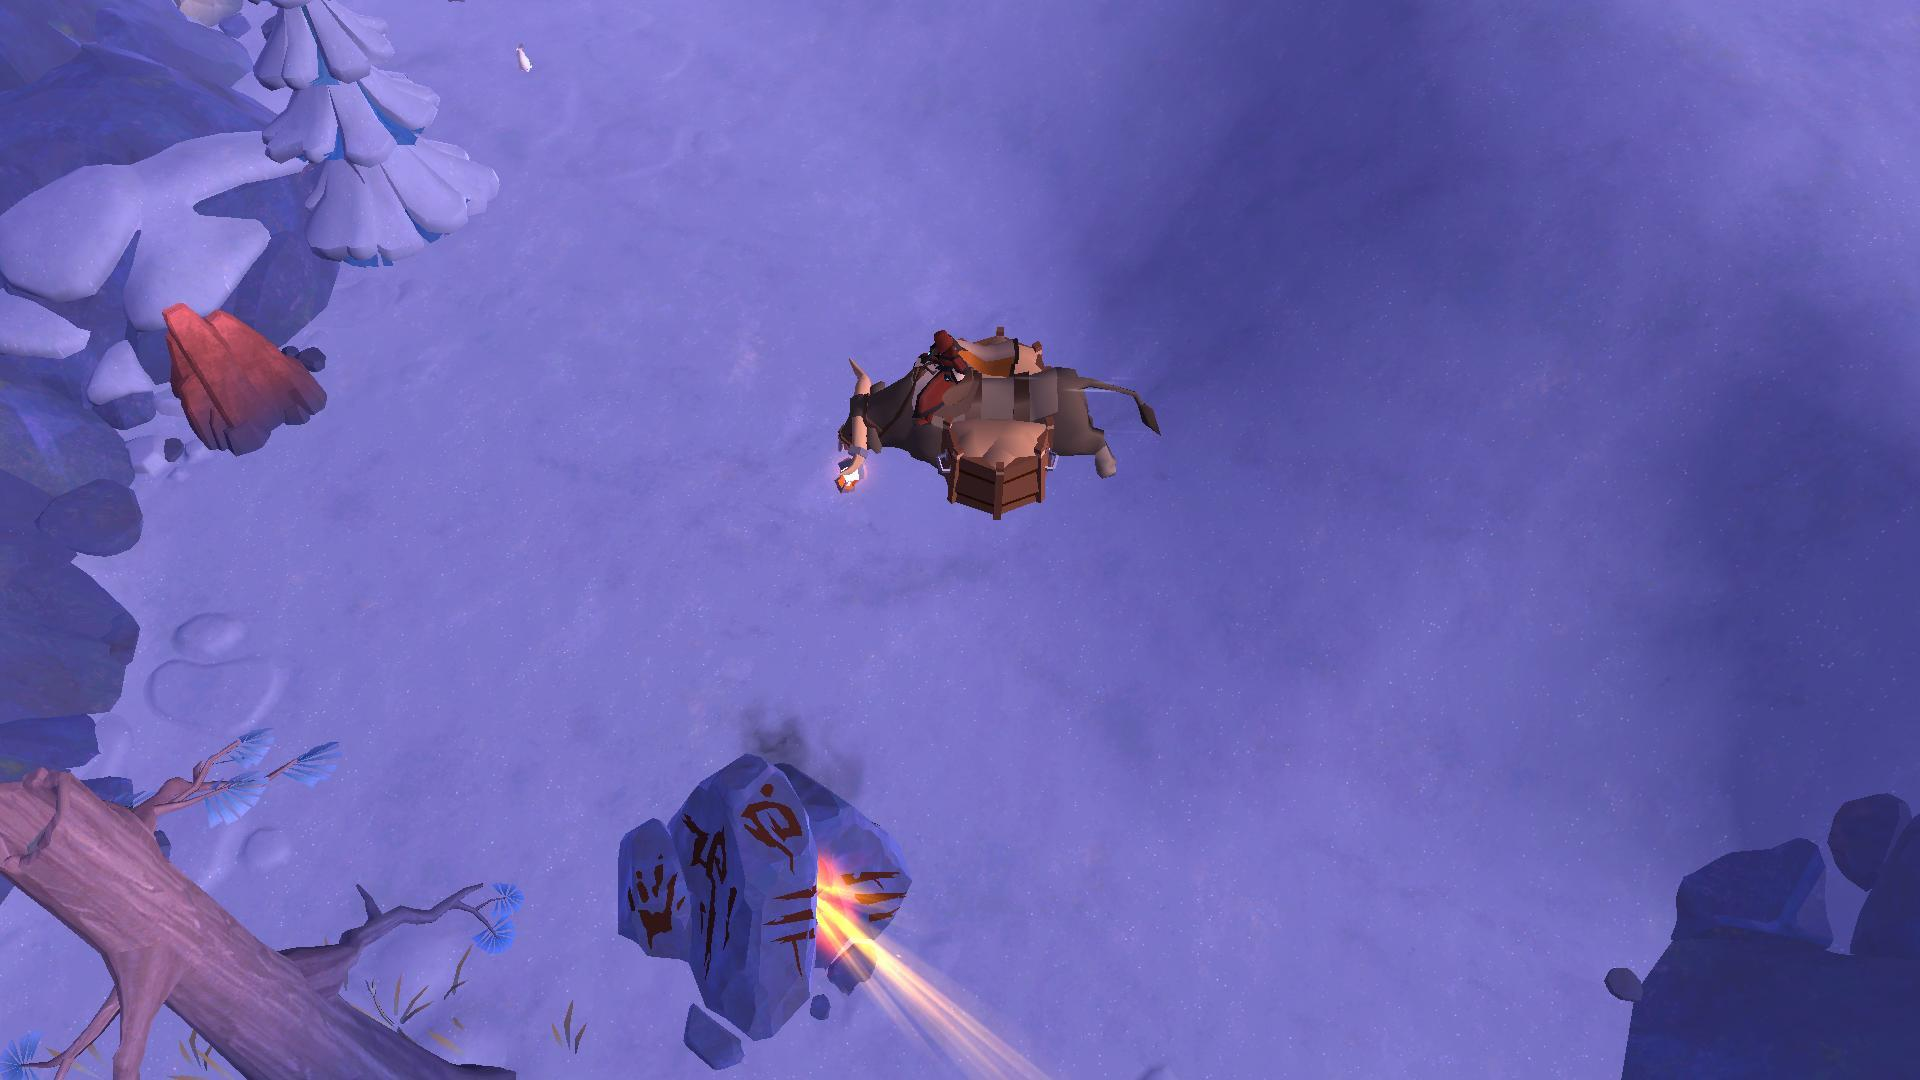rock_t5: (142, 290, 331, 459)
